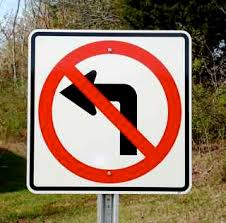No_left_turn: (39, 40, 182, 183)
